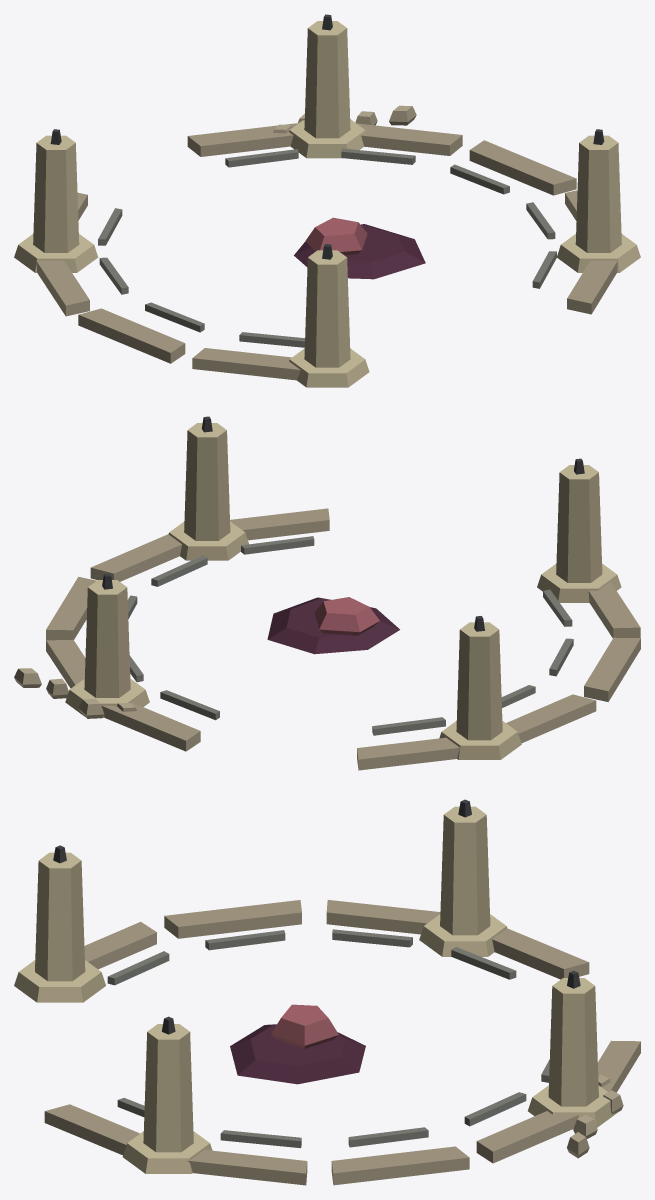
File: broken-salt-circle.glb
3 renders of one model, top to bottom at view 1: azimuth 30°, elevation 25°; view 2: azimuth 150°, elevation 25°; view 3: azimuth 270°, elevation 25°, orthographic. The views are drawn at different scales.
Parts seen in each view (by area): view 1: The salt circle; view 2: The salt circle; view 3: The salt circle.
Part boxes in pixels (<box>): The salt circle: <box>14,14,640,387</box>; The salt circle: <box>14,416,640,770</box>; The salt circle: <box>14,799,640,1185</box>.
Size of the model in its own units: 0.8435 by 0.199 by 0.8161.
